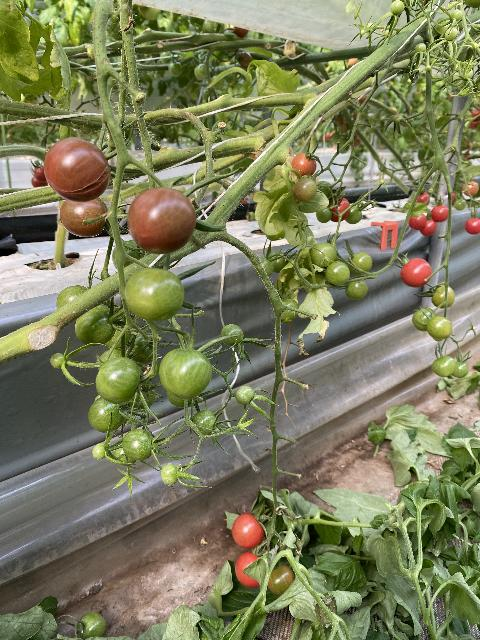l_fully_ripened: (232, 513, 265, 549), (400, 258, 432, 287), (236, 552, 259, 588), (327, 196, 350, 222), (431, 205, 450, 223), (408, 213, 427, 231), (420, 220, 437, 236), (464, 218, 480, 235)
l_green: (124, 267, 185, 321), (159, 348, 213, 400), (96, 358, 140, 404), (74, 305, 117, 347), (88, 397, 126, 434), (121, 429, 154, 460), (112, 240, 143, 272), (104, 316, 132, 349), (127, 381, 156, 411), (56, 285, 88, 310), (77, 612, 106, 639), (98, 348, 129, 371), (191, 410, 217, 437), (310, 242, 337, 268), (130, 336, 154, 365), (293, 177, 317, 202), (325, 261, 350, 285), (431, 284, 455, 309), (412, 307, 437, 331), (112, 442, 136, 467), (348, 252, 373, 275), (427, 316, 452, 339), (432, 355, 456, 377), (220, 324, 243, 346), (277, 299, 299, 322), (166, 390, 193, 408), (269, 251, 289, 274), (346, 281, 368, 301), (254, 258, 274, 278), (344, 204, 363, 225), (235, 385, 254, 405), (161, 464, 177, 486), (451, 362, 469, 378), (317, 181, 333, 199), (316, 207, 333, 223), (50, 353, 64, 369), (390, 0, 404, 15), (93, 443, 105, 459), (445, 27, 458, 40), (450, 9, 463, 22), (415, 43, 426, 53)
l_half_ripened: (127, 188, 197, 254), (43, 137, 111, 203), (60, 198, 108, 238), (268, 565, 295, 596), (292, 153, 316, 177)
